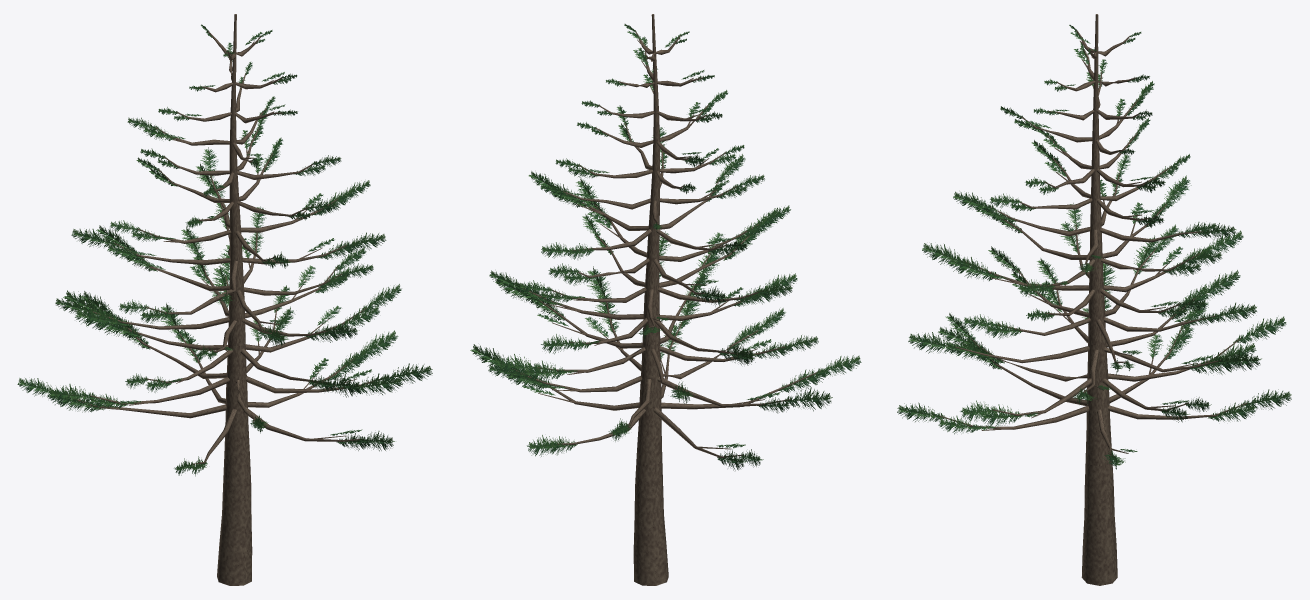
The model's file is WINTER_PINE_local.glb.
3 views of the same model, side by side, from view 1: azimuth 30°, elevation 25°; view 2: azimuth 150°, elevation 25°; view 3: azimuth 270°, elevation 25° (orthographic).
Visible parts, largest first — view 1: Trunk_Main_10m_Bark, NeedleClusters_00_AlphaMask, NeedleClusters_02_AlphaMask, NeedleClusters_01_AlphaMask, NeedleClusters_03_AlphaMask, NeedleClusters_04_AlphaMask, Branches_00_Z3.05m_Bark, NeedleClusters_05_AlphaMask, Branches_01_Z3.57m_Bark, NeedleClusters_06_AlphaMask, Branches_02_Z4.09m_Bark, Branches_03_Z4.62m_Bark (+9 smaller); view 2: Trunk_Main_10m_Bark, NeedleClusters_01_AlphaMask, NeedleClusters_00_AlphaMask, NeedleClusters_02_AlphaMask, NeedleClusters_04_AlphaMask, NeedleClusters_03_AlphaMask, Branches_00_Z3.05m_Bark, NeedleClusters_05_AlphaMask, Branches_01_Z3.57m_Bark, Branches_02_Z4.09m_Bark, NeedleClusters_06_AlphaMask, Branches_04_Z5.14m_Bark (+9 smaller); view 3: Trunk_Main_10m_Bark, NeedleClusters_00_AlphaMask, NeedleClusters_02_AlphaMask, NeedleClusters_01_AlphaMask, NeedleClusters_04_AlphaMask, NeedleClusters_03_AlphaMask, Branches_00_Z3.05m_Bark, NeedleClusters_05_AlphaMask, Branches_02_Z4.09m_Bark, NeedleClusters_06_AlphaMask, Branches_01_Z3.57m_Bark, Branches_03_Z4.62m_Bark (+9 smaller).
Boxes of the visible parts, <box> form: Trunk_Main_10m_Bark: <box>217,14,252,585</box>; NeedleClusters_00_AlphaMask: <box>17,303,398,476</box>; NeedleClusters_02_AlphaMask: <box>63,245,401,397</box>; NeedleClusters_01_AlphaMask: <box>47,285,432,433</box>; NeedleClusters_03_AlphaMask: <box>55,226,366,361</box>; NeedleClusters_04_AlphaMask: <box>96,206,373,346</box>; Branches_00_Z3.05m_Bark: <box>57,334,364,464</box>; NeedleClusters_05_AlphaMask: <box>71,179,386,302</box>; Branches_01_Z3.57m_Bark: <box>90,308,387,422</box>; NeedleClusters_06_AlphaMask: <box>110,147,370,268</box>; Branches_02_Z4.09m_Bark: <box>118,275,366,383</box>; Branches_03_Z4.62m_Bark: <box>93,256,337,352</box>; Trunk_Main_10m_Bark: <box>633,14,668,585</box>; NeedleClusters_01_AlphaMask: <box>488,266,832,441</box>; NeedleClusters_00_AlphaMask: <box>470,295,861,470</box>; NeedleClusters_02_AlphaMask: <box>493,249,818,403</box>; NeedleClusters_04_AlphaMask: <box>518,208,792,340</box>; NeedleClusters_03_AlphaMask: <box>489,231,797,365</box>; Branches_00_Z3.05m_Bark: <box>513,322,820,458</box>; NeedleClusters_05_AlphaMask: <box>548,177,790,306</box>; Branches_01_Z3.57m_Bark: <box>520,302,790,428</box>; Branches_02_Z4.09m_Bark: <box>537,278,785,389</box>; NeedleClusters_06_AlphaMask: <box>528,154,748,259</box>; Branches_04_Z5.14m_Bark: <box>549,234,762,327</box>; Trunk_Main_10m_Bark: <box>1081,14,1117,585</box>; NeedleClusters_00_AlphaMask: <box>897,299,1291,469</box>; NeedleClusters_02_AlphaMask: <box>908,258,1261,404</box>; NeedleClusters_01_AlphaMask: <box>938,258,1286,427</box>; NeedleClusters_04_AlphaMask: <box>922,203,1243,321</box>; NeedleClusters_03_AlphaMask: <box>963,224,1256,374</box>; Branches_00_Z3.05m_Bark: <box>939,325,1247,456</box>; NeedleClusters_05_AlphaMask: <box>968,175,1222,296</box>; Branches_02_Z4.09m_Bark: <box>955,280,1220,392</box>; NeedleClusters_06_AlphaMask: <box>953,154,1236,274</box>; Branches_01_Z3.57m_Bark: <box>975,338,1241,418</box>; Branches_03_Z4.62m_Bark: <box>997,248,1215,363</box>.
Bounding box in the file's own units: 6.71 × 10.01 × 6.48.
Materials: 2 (2 with a texture image).
